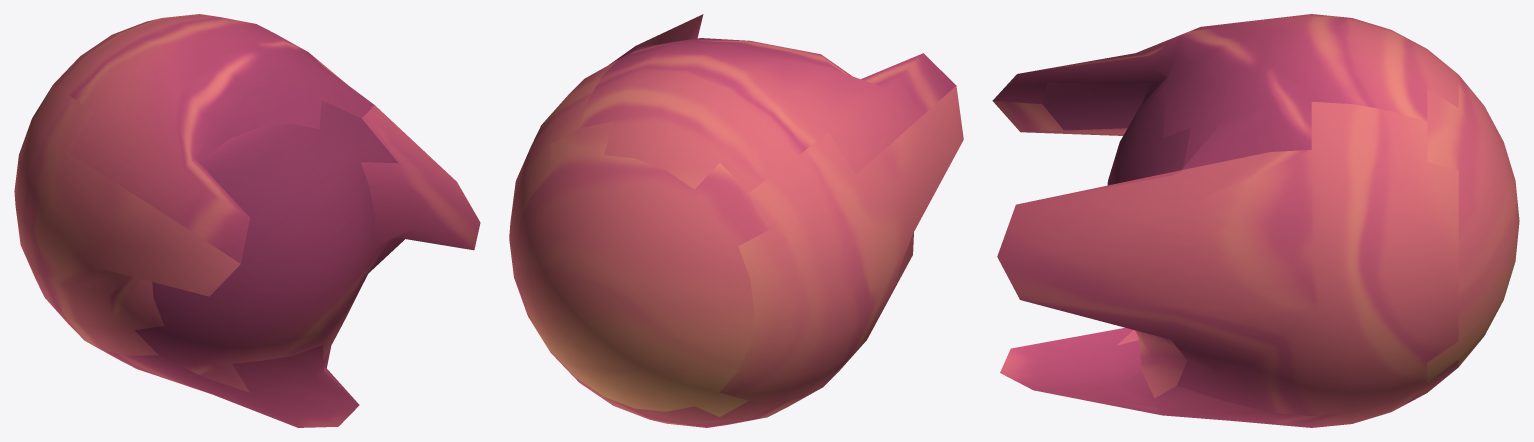
Rendered from IceCreamBall.fbx.
3 renders of one model, left to right at view 1: azimuth 30°, elevation 25°; view 2: azimuth 150°, elevation 25°; view 3: azimuth 270°, elevation 25°, orthographic. The views are drawn at different scales.
Parts seen in each view (by area): view 1: Sphere; view 2: Sphere; view 3: Sphere.
Part boxes in pixels (x1,y1,x2,y2): Sphere: (14,14,480,427); Sphere: (509,14,963,427); Sphere: (992,14,1519,427).
Bounding box in the file's own units: 201 × 254 × 200.
